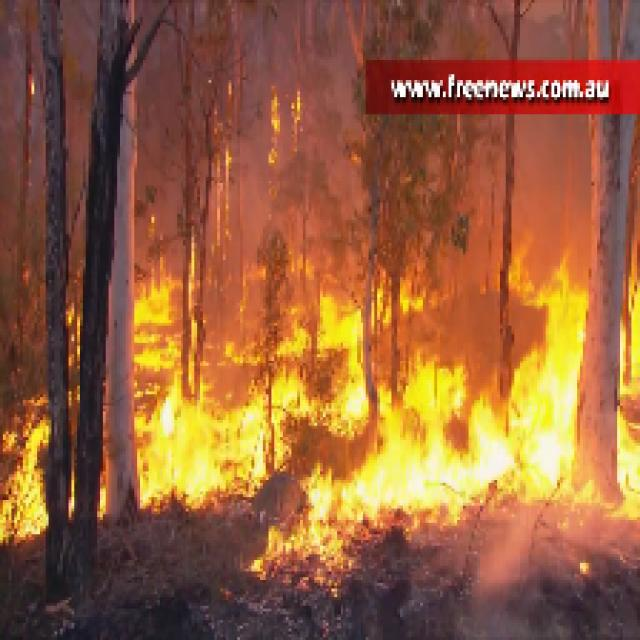fire: (51, 285, 610, 515)
